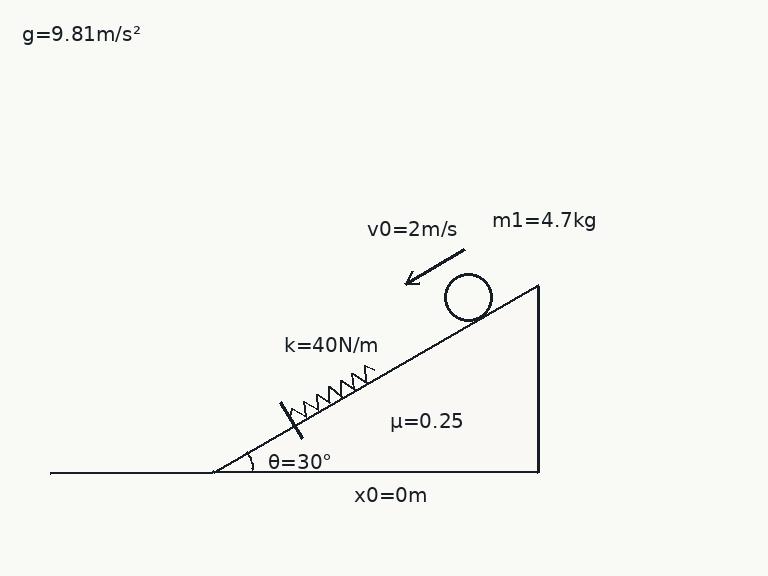ball: (442, 271, 494, 323)
ramp: (211, 283, 540, 474)
spring: (288, 364, 376, 419)
